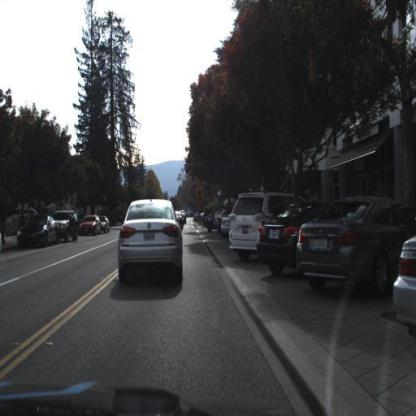car: (298, 194, 395, 289), (120, 199, 184, 292), (257, 197, 302, 276), (258, 205, 298, 273), (227, 191, 261, 265), (396, 231, 416, 345), (230, 194, 258, 256), (16, 216, 58, 247), (52, 208, 84, 244), (58, 209, 79, 241), (79, 213, 103, 239), (82, 215, 100, 235), (102, 216, 111, 235)
